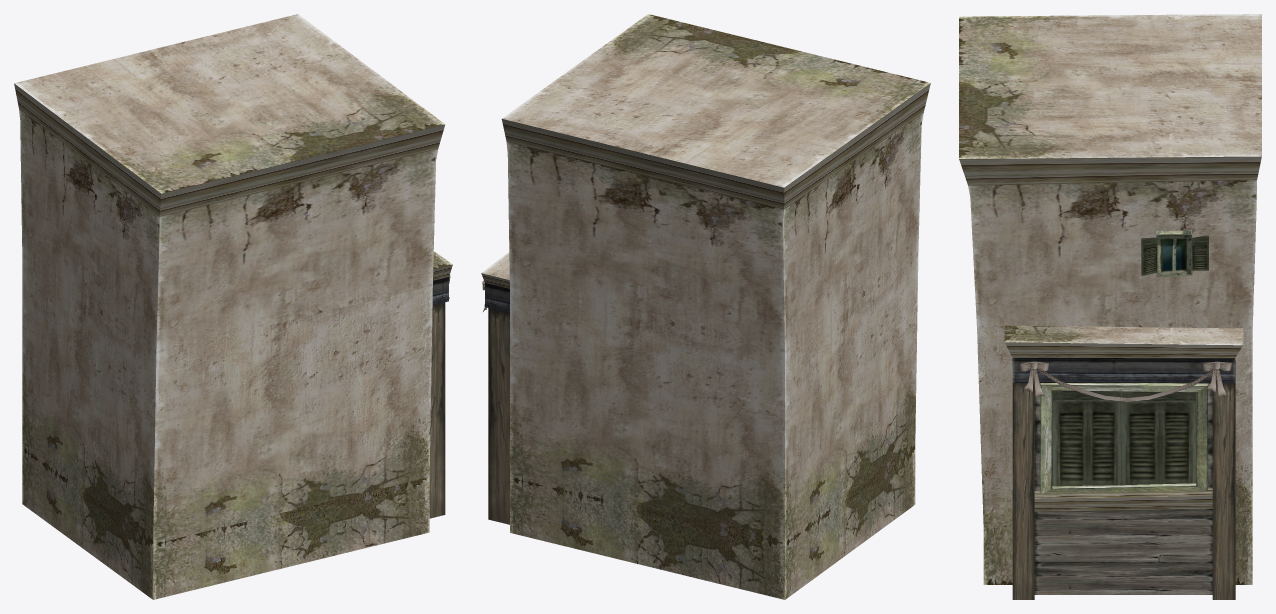
Rendered from english_b.fbx.
3 views of the same model, side by side, from view 1: azimuth 30°, elevation 25°; view 2: azimuth 150°, elevation 25°; view 3: azimuth 270°, elevation 25° (orthographic). The views are drawn at different scales.
Visible parts, largest first — view 1: facade_b_shell, awning; view 2: facade_b_shell, awning; view 3: facade_b_shell, awning, window, decoRibbon_winter08, shutters_02, shutters_01.
Boxes of the visible parts, box(x1,y1,x2,y2) form: facade_b_shell: box(14, 14, 445, 599); awning: box(429, 251, 452, 518); facade_b_shell: box(501, 14, 930, 599); awning: box(481, 252, 509, 524); facade_b_shell: box(959, 14, 1261, 584); awning: box(1004, 325, 1243, 599); window: box(1156, 230, 1192, 277); decoRibbon_winter08: box(1036, 368, 1213, 401); shutters_02: box(1141, 237, 1157, 275); shutters_01: box(1191, 235, 1208, 270).
Bounding box in the file's own units: 3013 × 3761 × 2400.
Materials: 2 (2 with a texture image).
